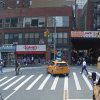Crosswalk: (4, 65, 84, 100)
